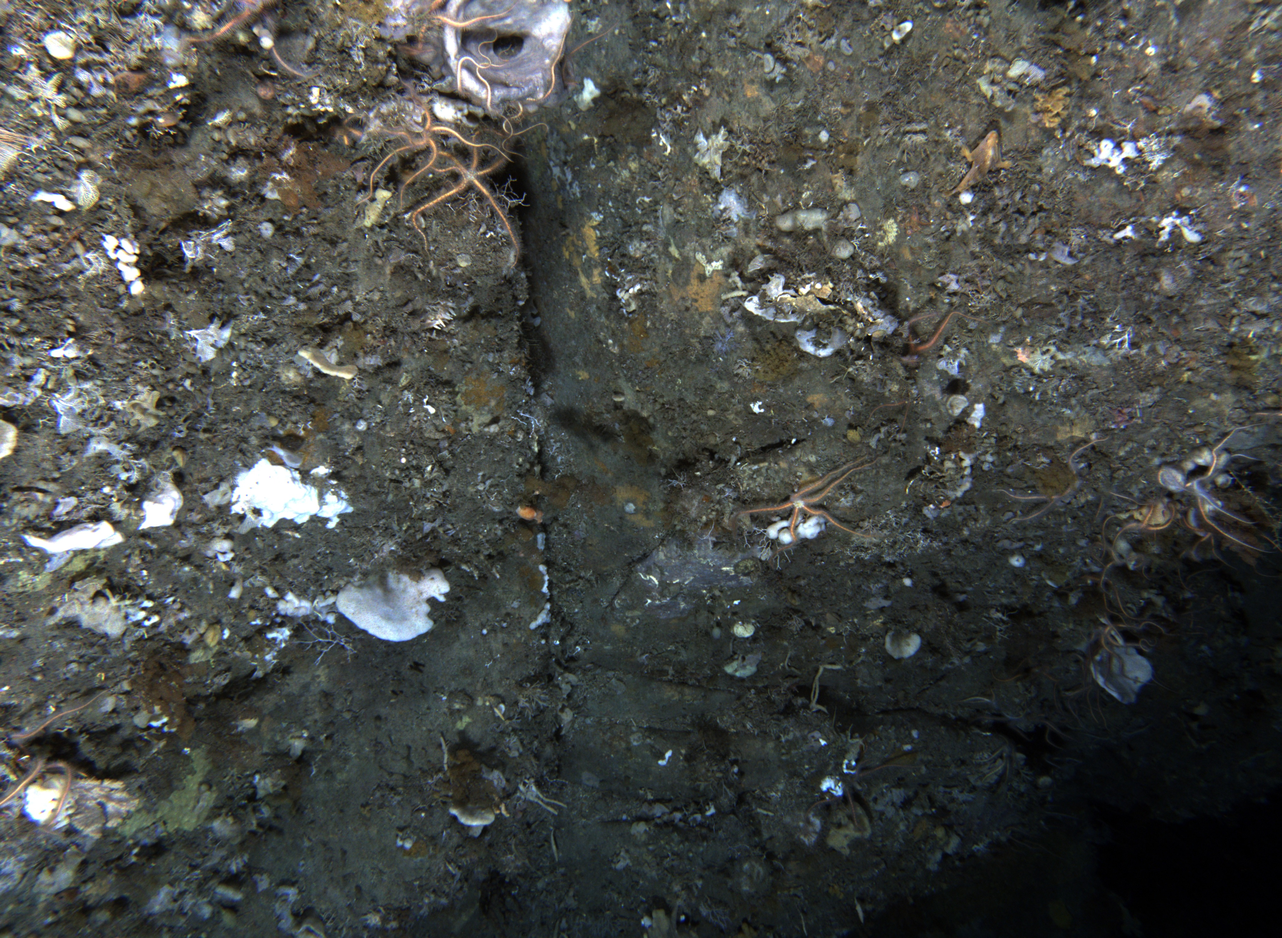Brachionichthyidae: (940, 129, 1014, 199)
